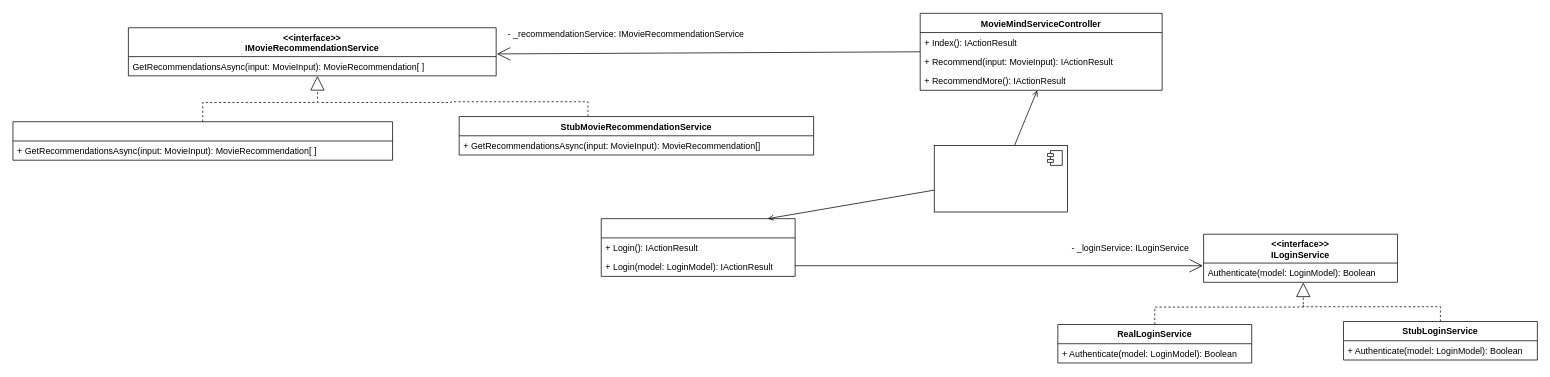
Some shapes in this 1550 by 377 pixel diagram are drawn without their labels. The box of each missing label's shape, as (x1, y1, x2, y2) in pixels:
LoginController: (601, 218, 795, 276)
RealMovieRecommendationService: (12, 121, 393, 160)
«Annotation» .NET: (934, 145, 1067, 212)
